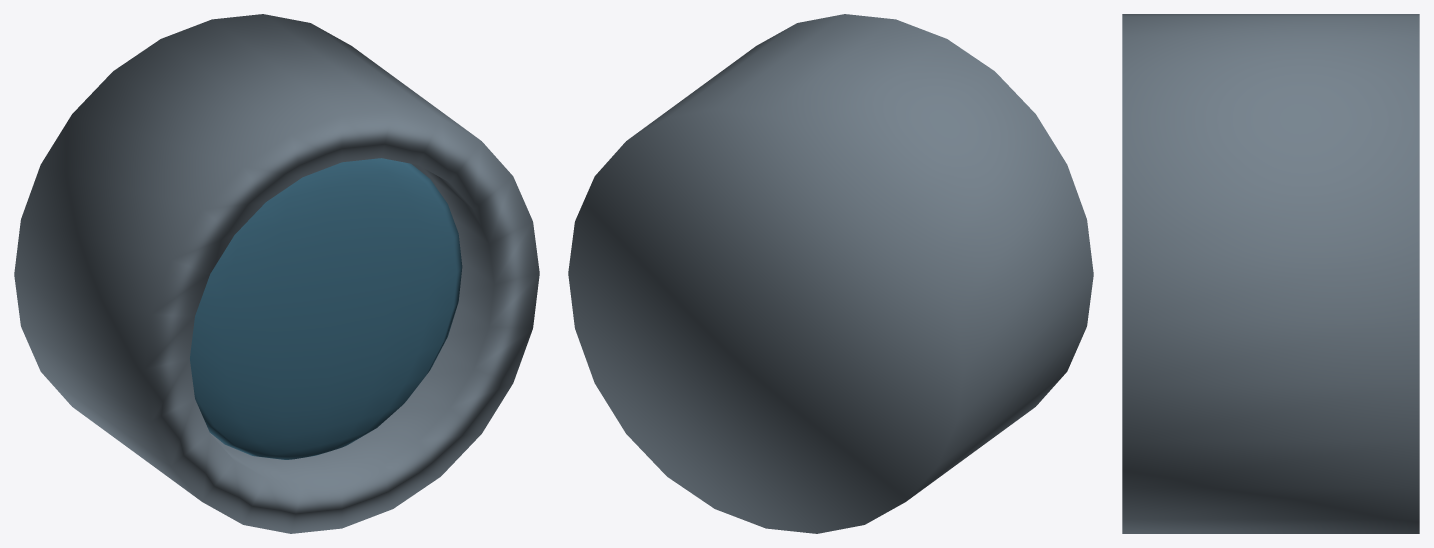
The model's file is curiosity_mast.deployment.azimuth.head.mastcam_100.glb.
3 views of the same model, side by side, from view 1: azimuth 30°, elevation 25°; view 2: azimuth 150°, elevation 25°; view 3: azimuth 270°, elevation 25° (orthographic). The views are drawn at different scales.
Parts seen in each view (by area): view 1: curiosity_mast.deployment.azimuth.head.mastcam_100.mesh_Mach, curiosity_mast.deployment.azimuth.head.mastcam_100.lens.mesh; view 2: curiosity_mast.deployment.azimuth.head.mastcam_100.mesh_Mach; view 3: curiosity_mast.deployment.azimuth.head.mastcam_100.mesh_Mach.
Boxes of the visible parts, left/top/right/bottom form: curiosity_mast.deployment.azimuth.head.mastcam_100.mesh_Mach: left=14, top=14, right=539, bottom=533; curiosity_mast.deployment.azimuth.head.mastcam_100.lens.mesh: left=190, top=158, right=462, bottom=459; curiosity_mast.deployment.azimuth.head.mastcam_100.mesh_Mach: left=568, top=14, right=1093, bottom=533; curiosity_mast.deployment.azimuth.head.mastcam_100.mesh_Mach: left=1122, top=14, right=1419, bottom=533.
Bounding box in the file's own units: 0.1 × 0.1 × 0.057.
